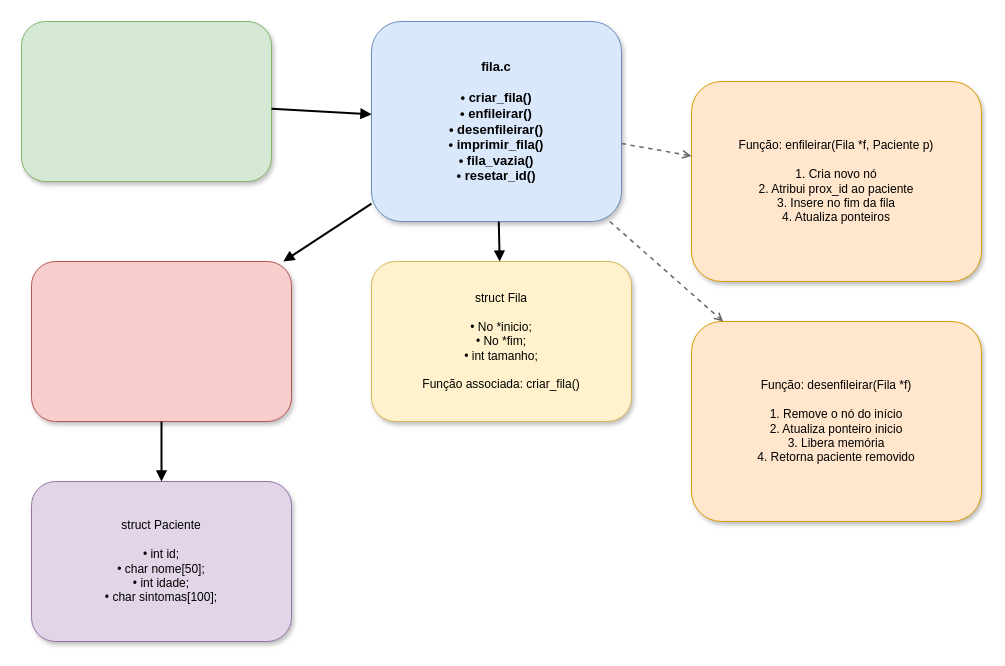
The diagram is 1005 pixels wide and 666 high, and some of its shapes have lost their labels. The centre of each missing label's shape, as x and y in pixels:
main.c • main() • menu_principal() • switch(opcao) • chamar funções de fila.c: [147,102]
struct No • Paciente dado; • struct No *prox; static int prox_id;: [162,342]
